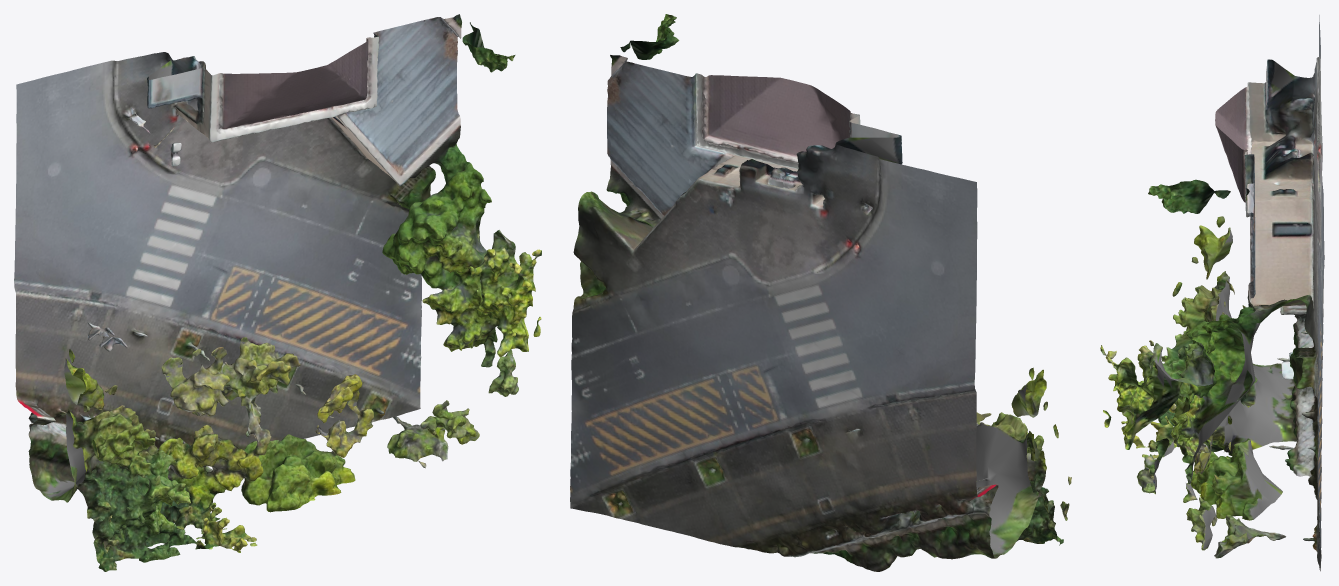
Rendered from Tile_+012_+028.fbx.
3 renders of one model, left to right at view 1: azimuth 30°, elevation 25°; view 2: azimuth 150°, elevation 25°; view 3: azimuth 270°, elevation 25°, orthographic. The views are drawn at different scales.
Visible parts, largest first — view 1: DefaultName; view 2: DefaultName; view 3: DefaultName.
Part boxes in pixels (x1,y1,x2,y2): DefaultName: [14, 14, 541, 571]; DefaultName: [570, 14, 1071, 571]; DefaultName: [1100, 15, 1324, 571].
Size of the model in its own units: 22.54 by 22.54 by 12.04.
